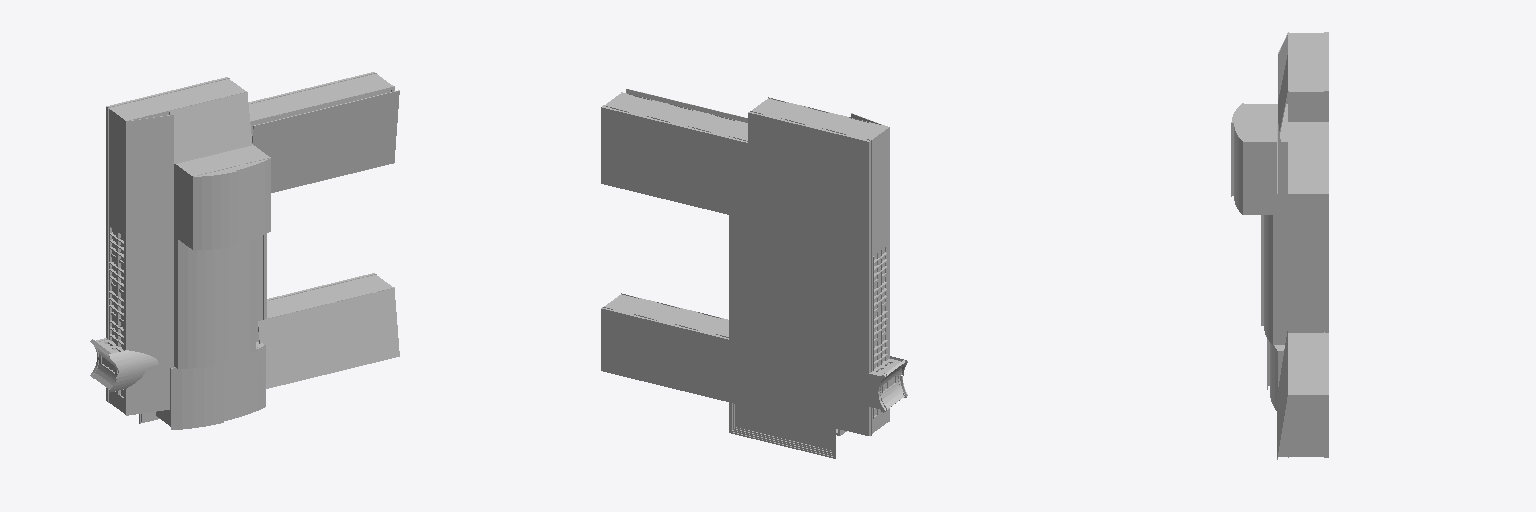
The model's file is Building N030611.obj.
3 renders of one model, left to right at view 1: azimuth 30°, elevation 25°; view 2: azimuth 150°, elevation 25°; view 3: azimuth 270°, elevation 25°, orthographic.
Size of the model in its own units: 604701 by 657948 by 177906.